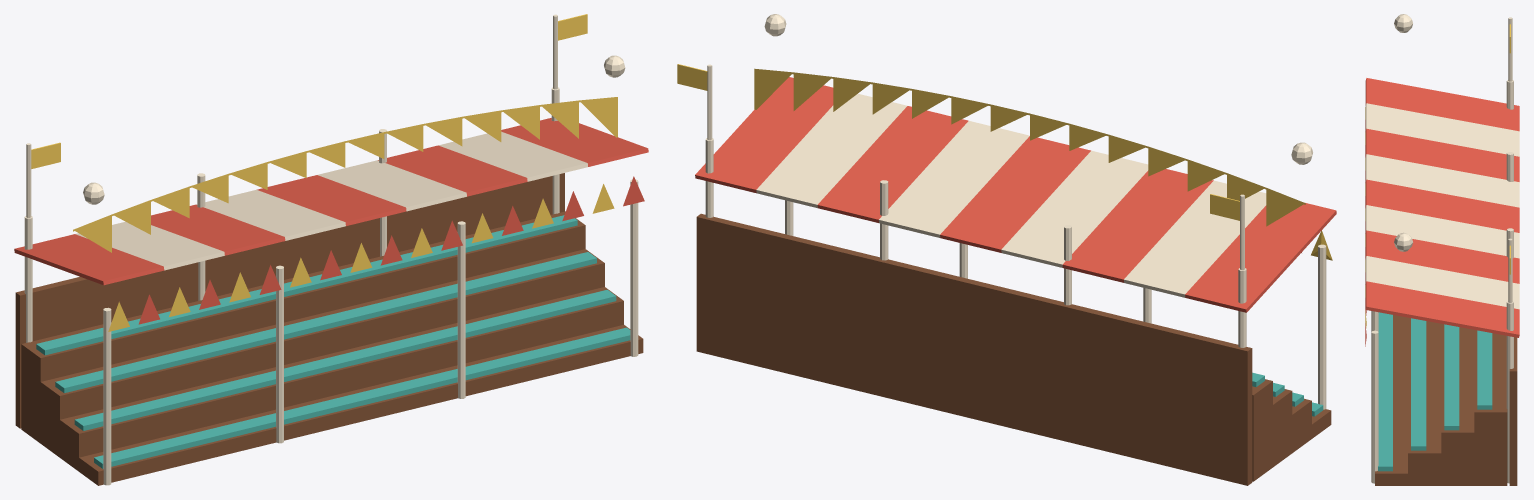
File: grandstand.glb
3 views of the same model, side by side, from view 1: azimuth 30°, elevation 25°; view 2: azimuth 150°, elevation 25°; view 3: azimuth 270°, elevation 25° (orthographic). The views are drawn at different scales.
Visible parts, largest first — view 1: Grandstand, StandBunting; view 2: Grandstand, StandBunting; view 3: Grandstand, StandFinialR, StandFinialL.
Boxes of the visible parts, <box> form: Grandstand: <box>14,14,648,485</box>; StandBunting: <box>73,97,617,252</box>; Grandstand: <box>677,64,1336,485</box>; StandBunting: <box>754,68,1305,226</box>; Grandstand: <box>1365,17,1519,485</box>; StandFinialR: <box>1394,232,1413,251</box>; StandFinialL: <box>1394,14,1412,32</box>.
Size of the model in its own units: 18.75 by 9.07 by 5.14.
